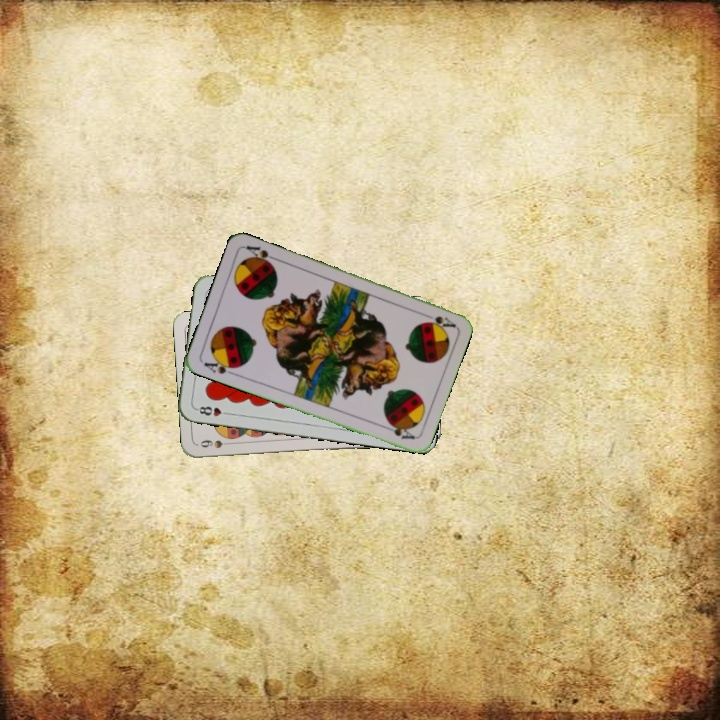H8: (192, 402, 233, 419)
S9: (196, 436, 236, 450)
SA: (200, 354, 241, 378), (419, 309, 458, 331)
